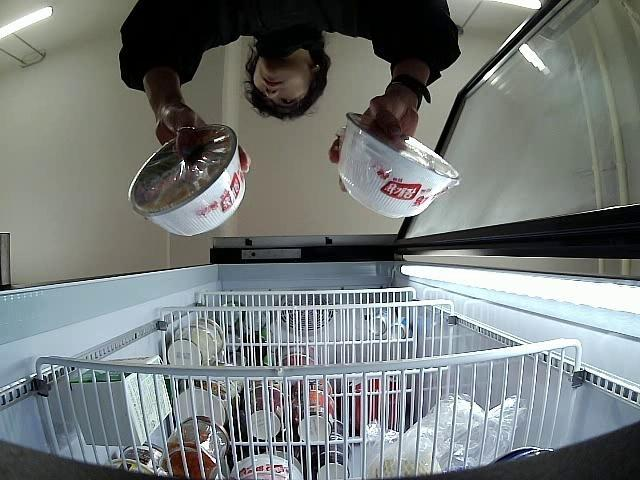09_yukGaeJang: (338, 111, 460, 220), (130, 123, 244, 238)
